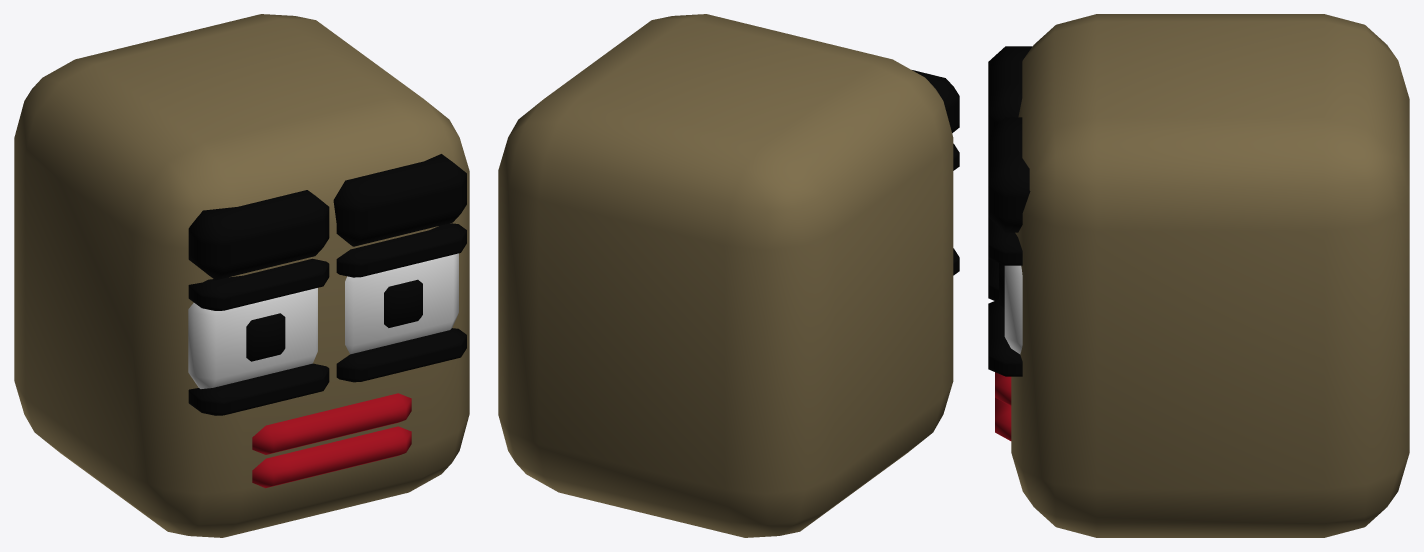
Rendered from 2414robot2.glb.
3 renders of one model, left to right at view 1: azimuth 30°, elevation 25°; view 2: azimuth 150°, elevation 25°; view 3: azimuth 270°, elevation 25°, orthographic. The views are drawn at different scales.
Visible parts, largest first — view 1: robot; view 2: robot; view 3: robot.
Part boxes in pixels (box(x1,y1,x2,y2)): robot: box(14, 14, 469, 537); robot: box(498, 14, 959, 537); robot: box(988, 14, 1409, 537).
Size of the model in its own units: 0.7 by 0.8 by 0.7404.
